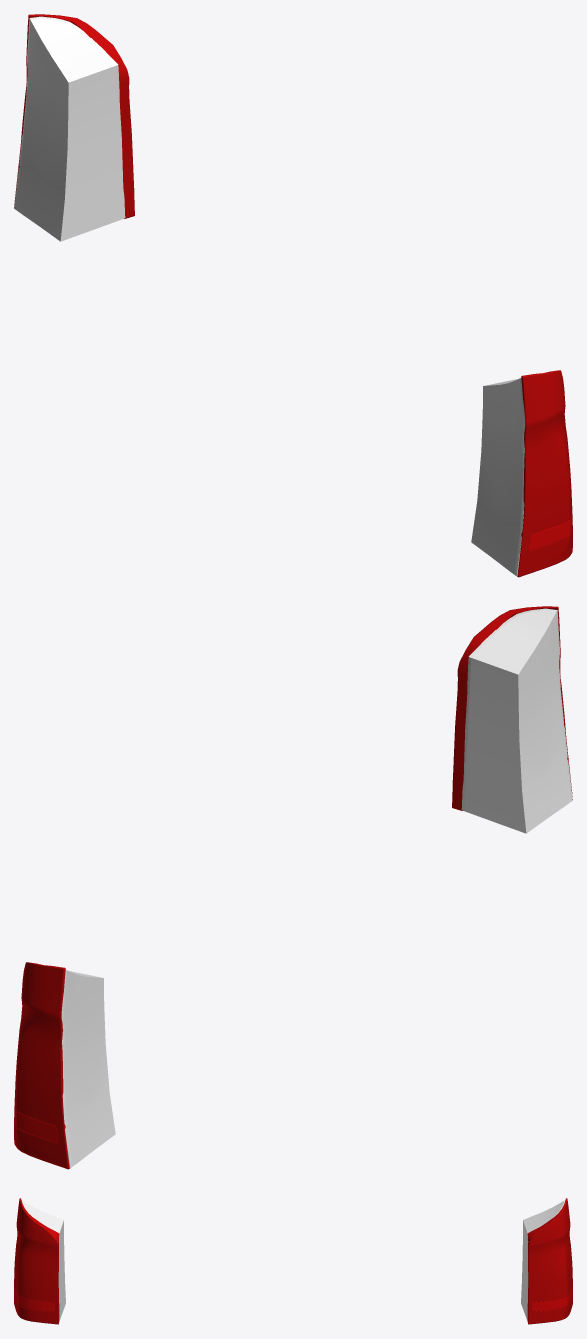
The model's file is Light_Back.glb.
3 renders of one model, top to bottom at view 1: azimuth 30°, elevation 25°; view 2: azimuth 150°, elevation 25°; view 3: azimuth 270°, elevation 25°, orthographic. The views are drawn at different scales.
Parts seen in each view (by area): view 1: group2_polySurface192; view 2: group2_polySurface192; view 3: group2_polySurface192.
Part boxes in pixels (box(x1,y1,x2,y2)): group2_polySurface192: box(14, 14, 572, 577); group2_polySurface192: box(14, 606, 572, 1169); group2_polySurface192: box(14, 1198, 572, 1324).
Size of the model in its own units: 0.1681 by 0.3827 by 1.8.
